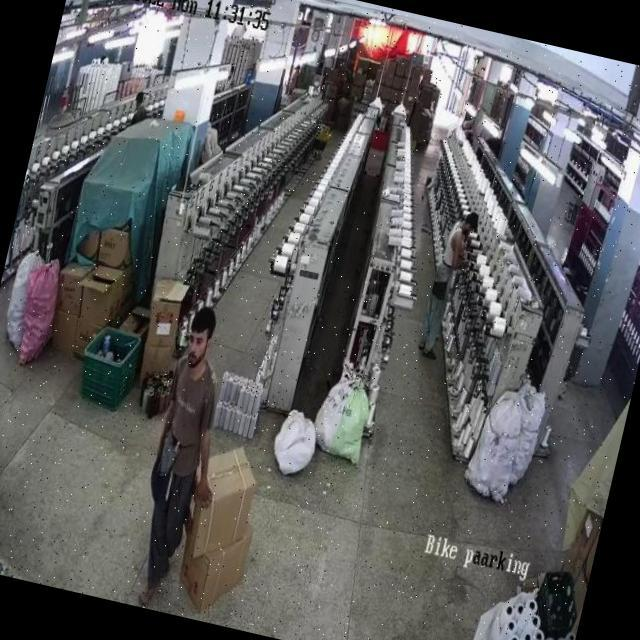person: (128, 310, 244, 592), (414, 200, 482, 366)
